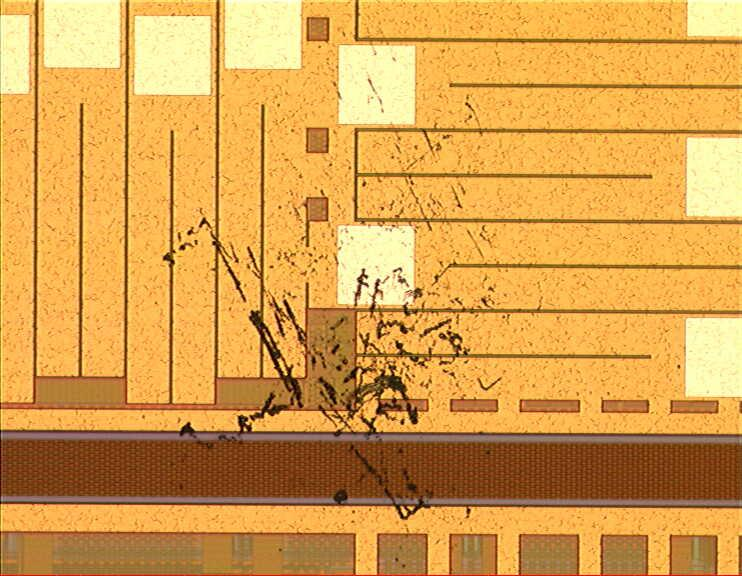SCRATCH: (155, 25, 502, 527)
